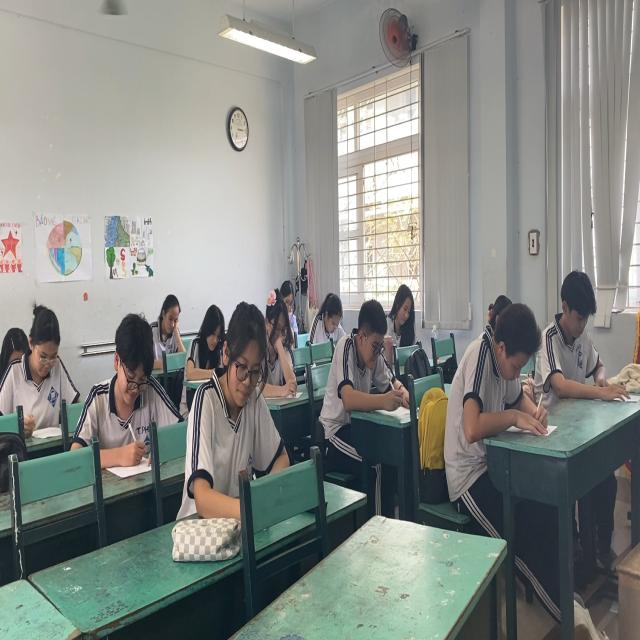not_cheating: (205, 314, 264, 472), (85, 321, 161, 438), (546, 259, 605, 396), (11, 303, 75, 421), (478, 301, 528, 448), (346, 289, 390, 410), (266, 299, 295, 403), (188, 300, 223, 380), (382, 264, 417, 340), (311, 293, 355, 348), (276, 276, 300, 338), (155, 289, 180, 341)
